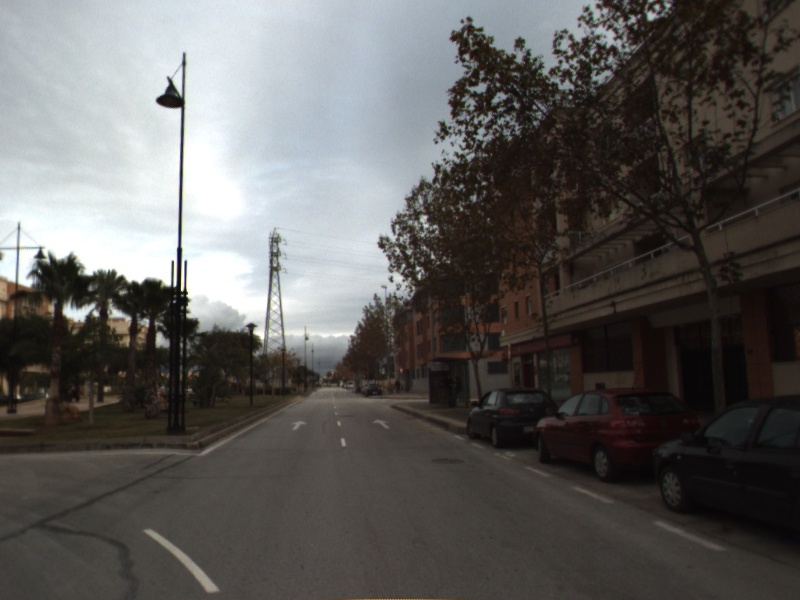STRAIGHT: (371, 417, 392, 431), (290, 418, 309, 432)
